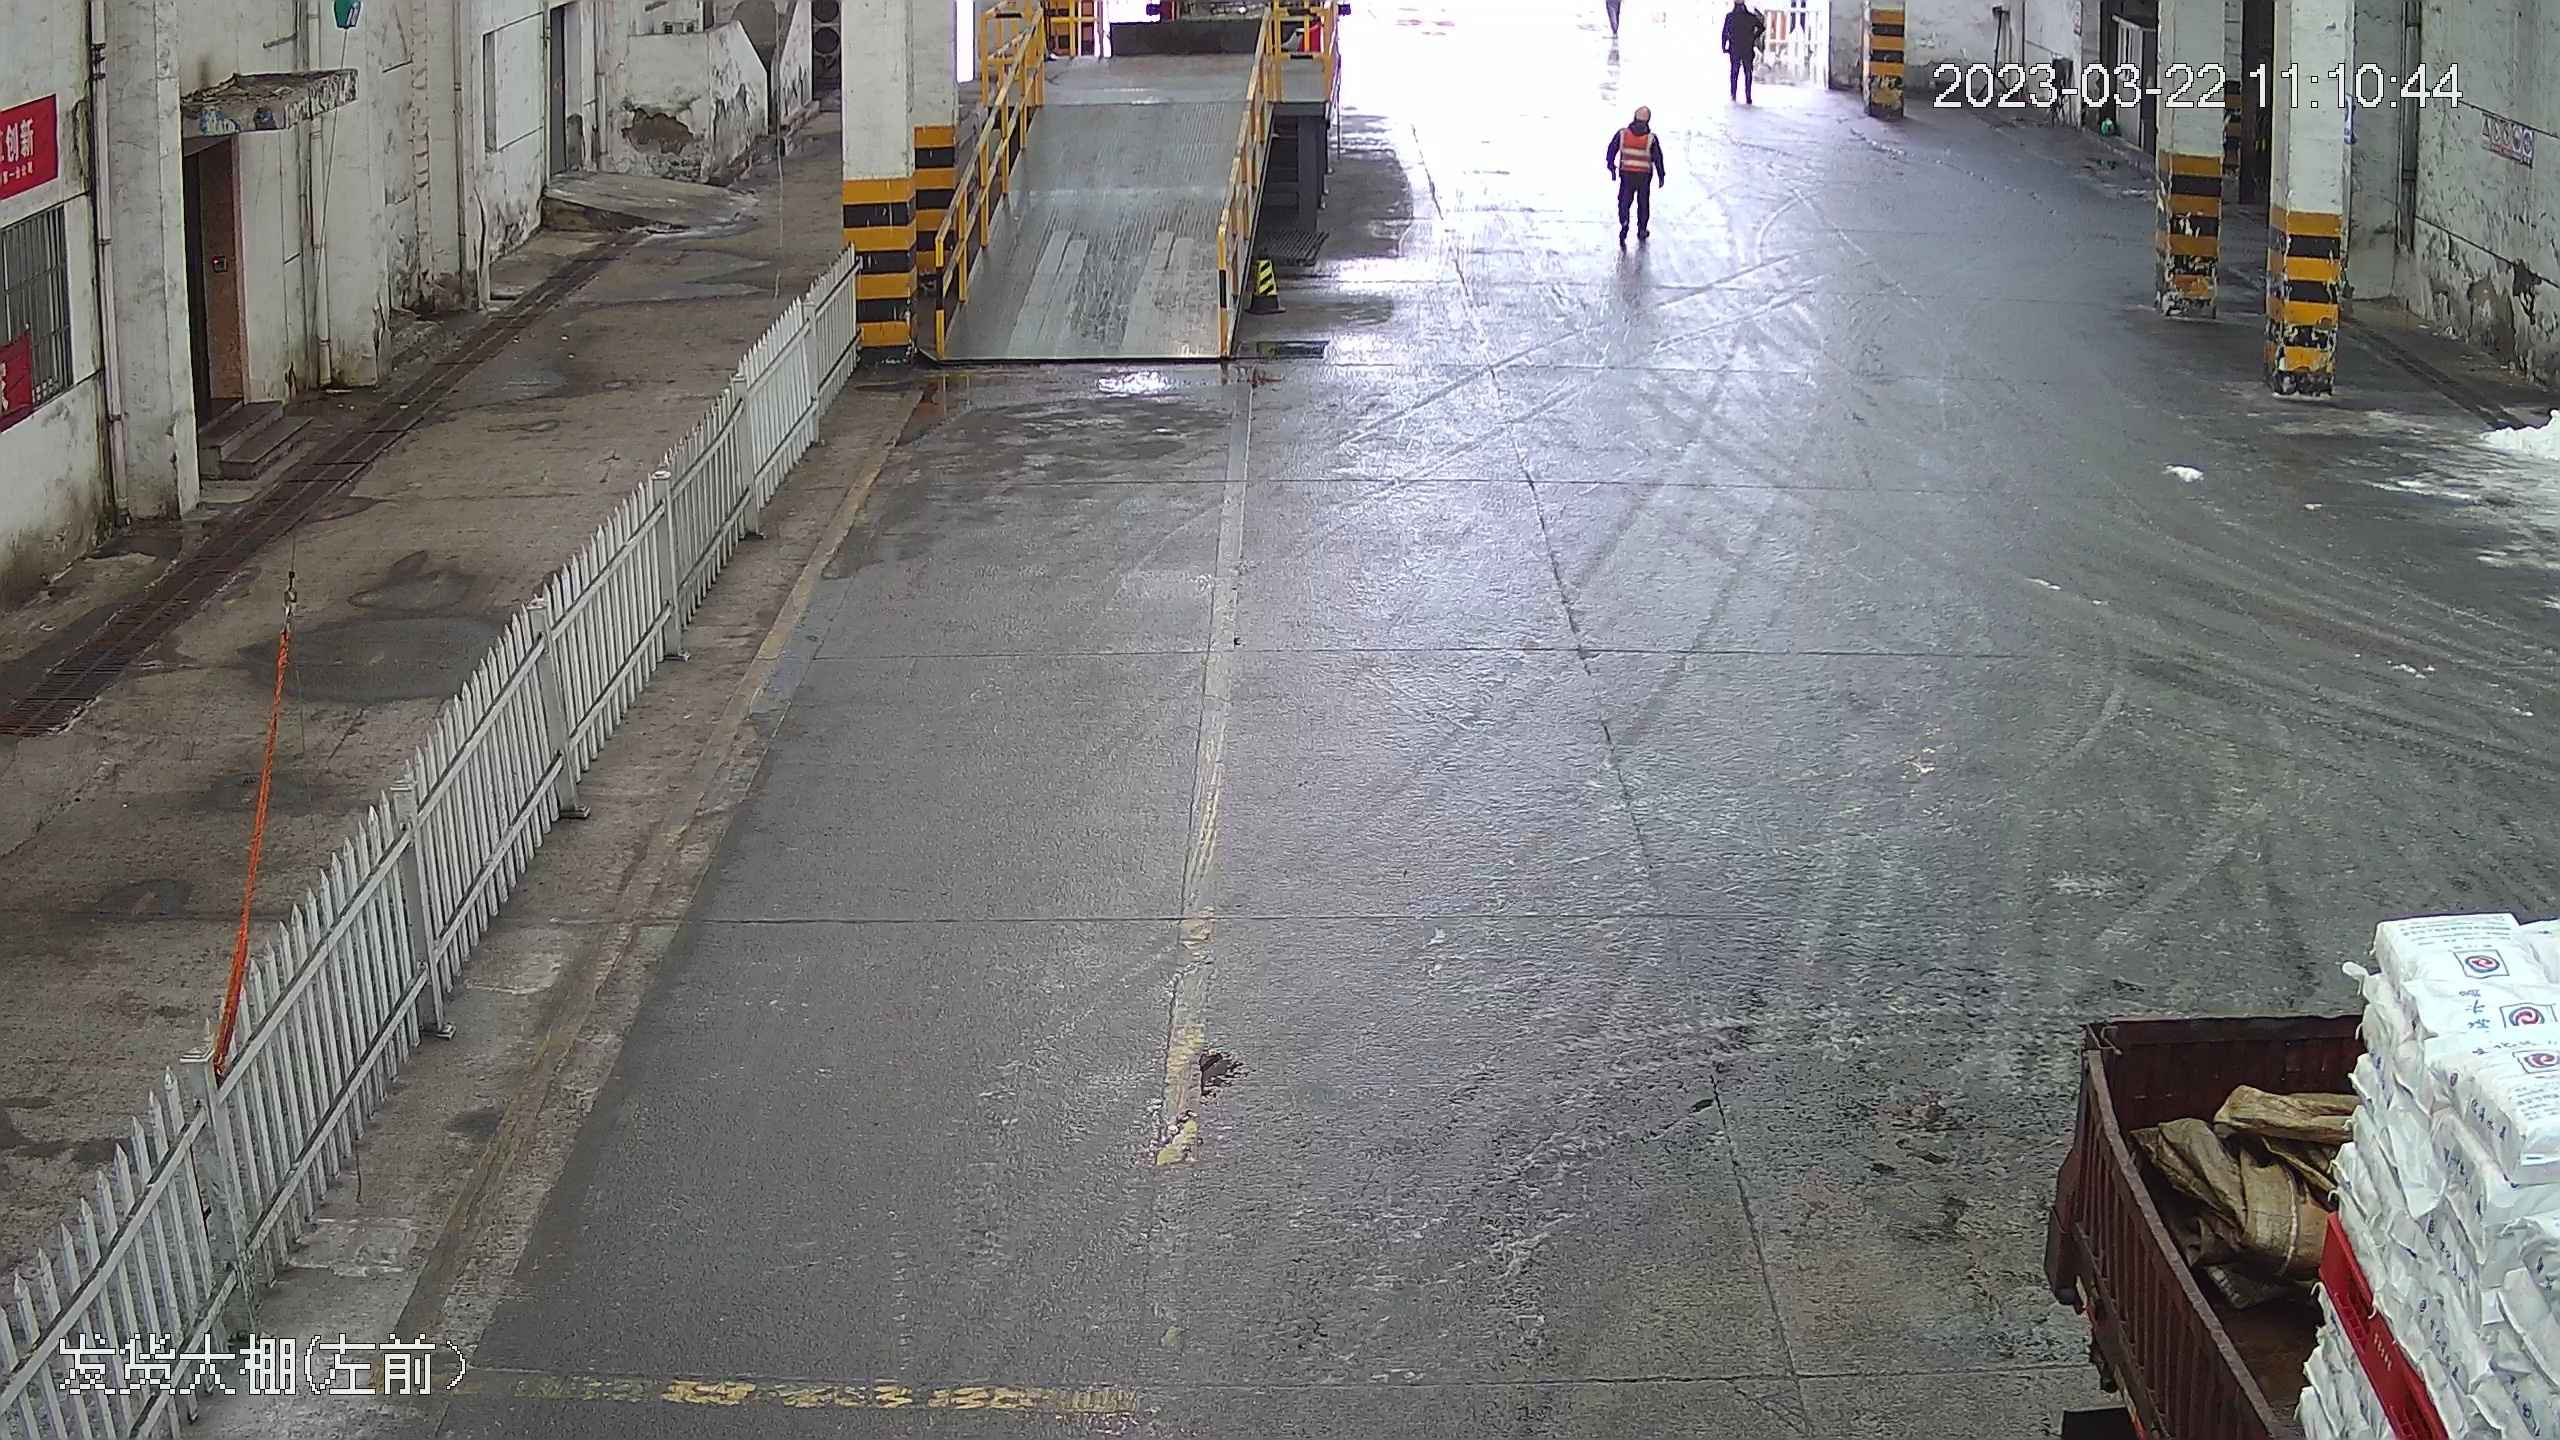head: (1611, 98, 1660, 148)
helmet: (1634, 104, 1652, 122)
people: (1601, 93, 1665, 256), (1717, 1, 1766, 108)
truck: (2026, 952, 2560, 1440)
